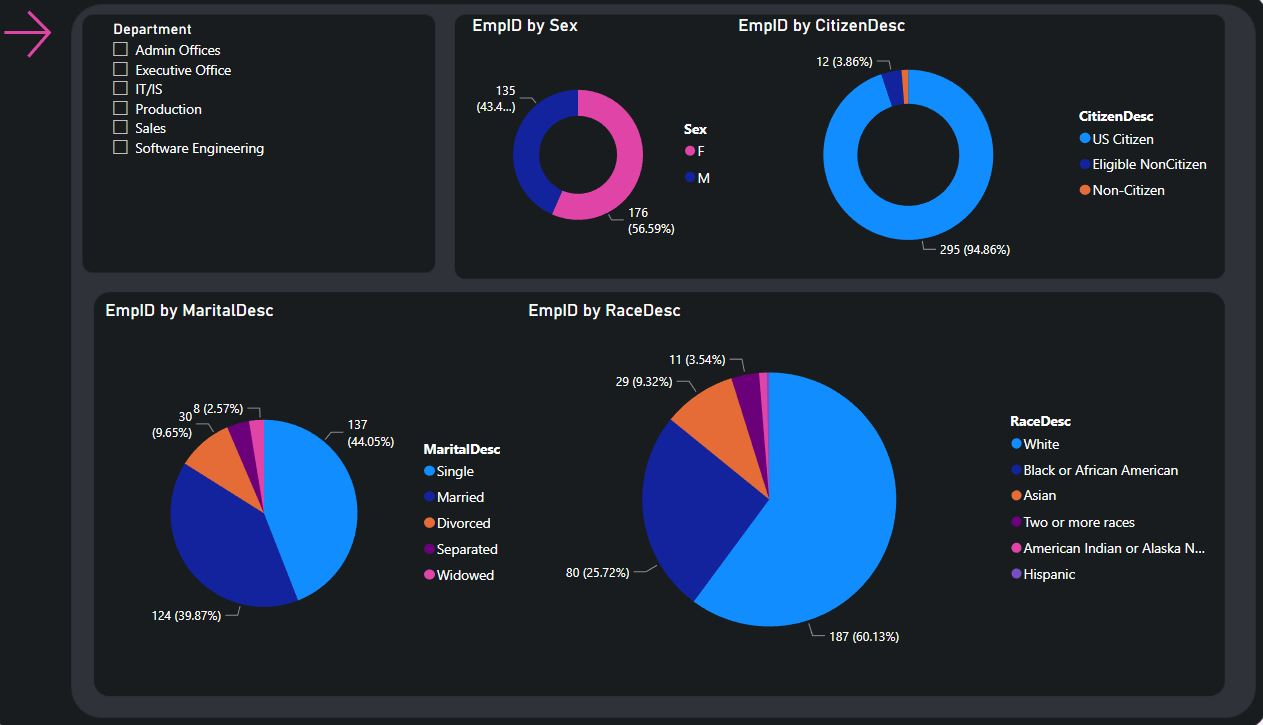

Layout of this report page (visuals, bound fields, positions):
{"tool":"powerbi","page":{"name":"Page 1","canvas":[1280,720],"ordinal":0},"visuals":[{"type":"donutChart","fields":{"Y":["CountNonNull(HRDataset.EmpID)"],"Category":["HRDataset.Sex"]},"box":[499.8,21.3,259,253],"z":0},{"type":"pieChart","fields":{"Y":["CountNonNull(HRDataset.EmpID)"],"Category":["HRDataset.MaritalDesc"]},"box":[143.2,298.7,411.4,396.2],"z":1},{"type":"donutChart","fields":{"Y":["CountNonNull(HRDataset.EmpID)"],"Category":["HRDataset.CitizenDesc"]},"box":[758.9,21.3,475.4,253],"z":2},{"type":"pieChart","fields":{"Y":["CountNonNull(HRDataset.EmpID)"],"Category":["HRDataset.RaceDesc"]},"box":[554.7,298.7,679.6,368.8],"z":3},{"type":"slicer","fields":{"Values":["HRDataset.Department"]},"box":[143.2,21.3,323,253],"z":4},{"type":"actionButton","box":[42.7,0,57.9,79.2],"z":5}]}

Visuals, with their boxes in screenshot pixels (x1, y1, x2, y2), scaled from the page's 1280x720 canvas onto the 1263x725 screenshot:
donutChart - CountNonNull(HRDataset.EmpID) x HRDataset.Sex: l=493, t=21, r=749, b=276
pieChart - CountNonNull(HRDataset.EmpID) x HRDataset.MaritalDesc: l=141, t=301, r=547, b=700
donutChart - CountNonNull(HRDataset.EmpID) x HRDataset.CitizenDesc: l=749, t=21, r=1218, b=276
pieChart - CountNonNull(HRDataset.EmpID) x HRDataset.RaceDesc: l=547, t=301, r=1218, b=672
slicer - HRDataset.Department: l=141, t=21, r=460, b=276
actionButton: l=42, t=0, r=99, b=80
